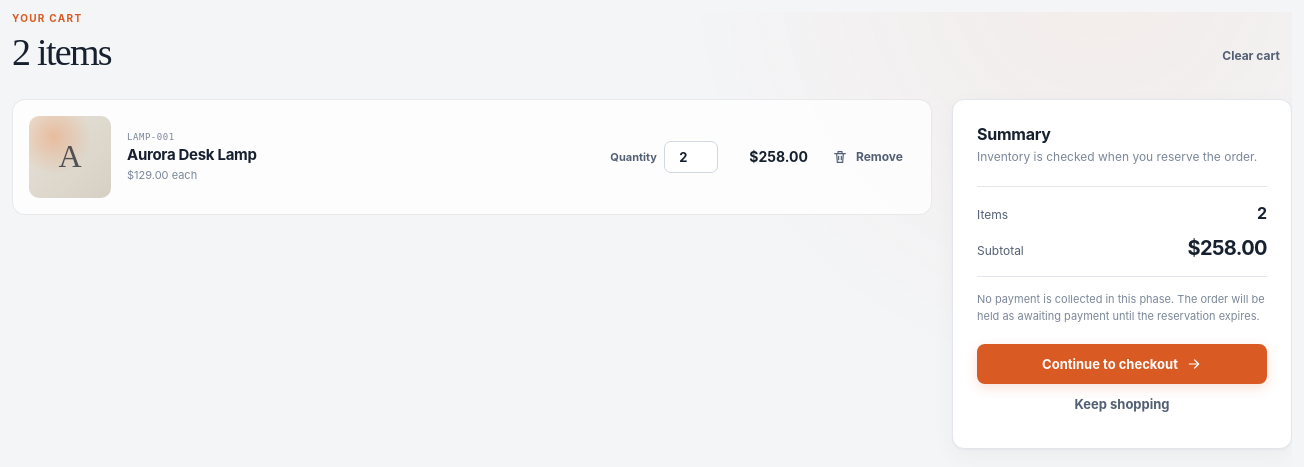
Test: StoreCartPage › renders cart lines and updates quantity and totals
Expected: the link "Aurora Desk Lamp" is shown, [127,145,257,164]
Expected: the heading "2 items" is shown, [12,33,111,73]
Replace the text in the number field named "Quantity for Aurora Desk Lamp" with "3" at [691, 157], box [664,141,718,173]
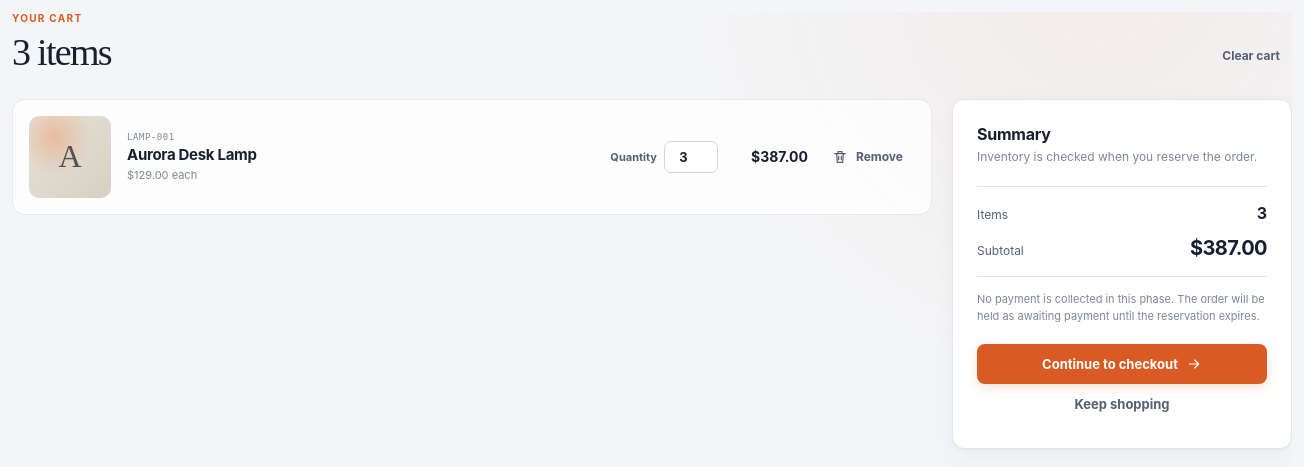
Expected: the text "$387.00" is shown 2 times, [751,148,808,165]; [1190,236,1267,260]
Expected: the heading "3 items" is shown, [12,33,111,73]
